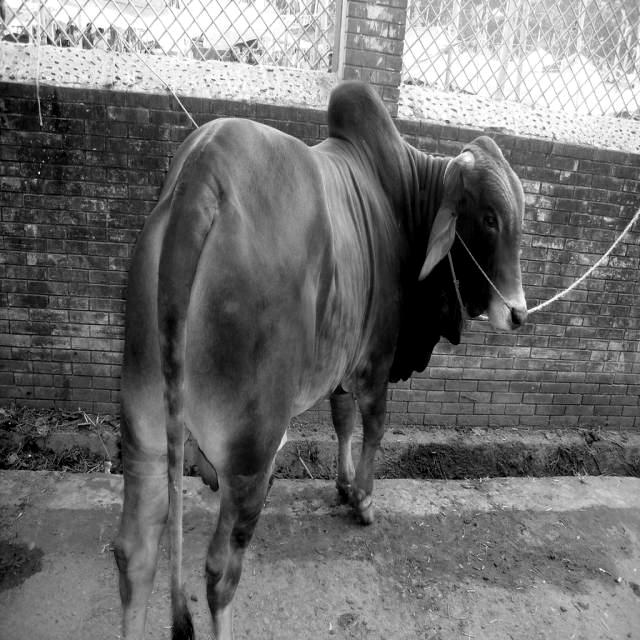COW: (115, 82, 526, 640)
